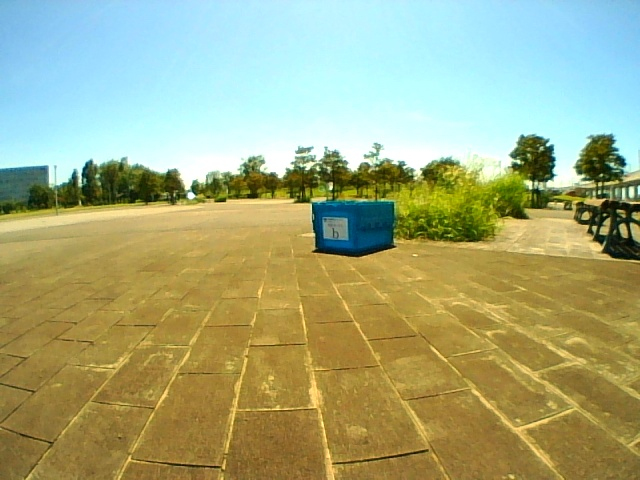blue_box: (314, 202, 394, 252)
tag_b: (323, 218, 348, 241)
